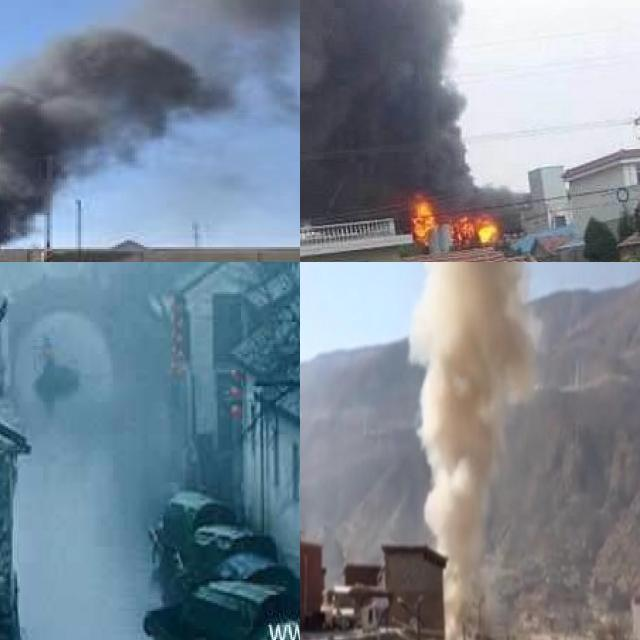fire: (411, 194, 504, 244), (408, 193, 435, 240)
smoke: (0, 0, 300, 247), (410, 262, 532, 640), (300, 0, 480, 212), (21, 466, 146, 640)
